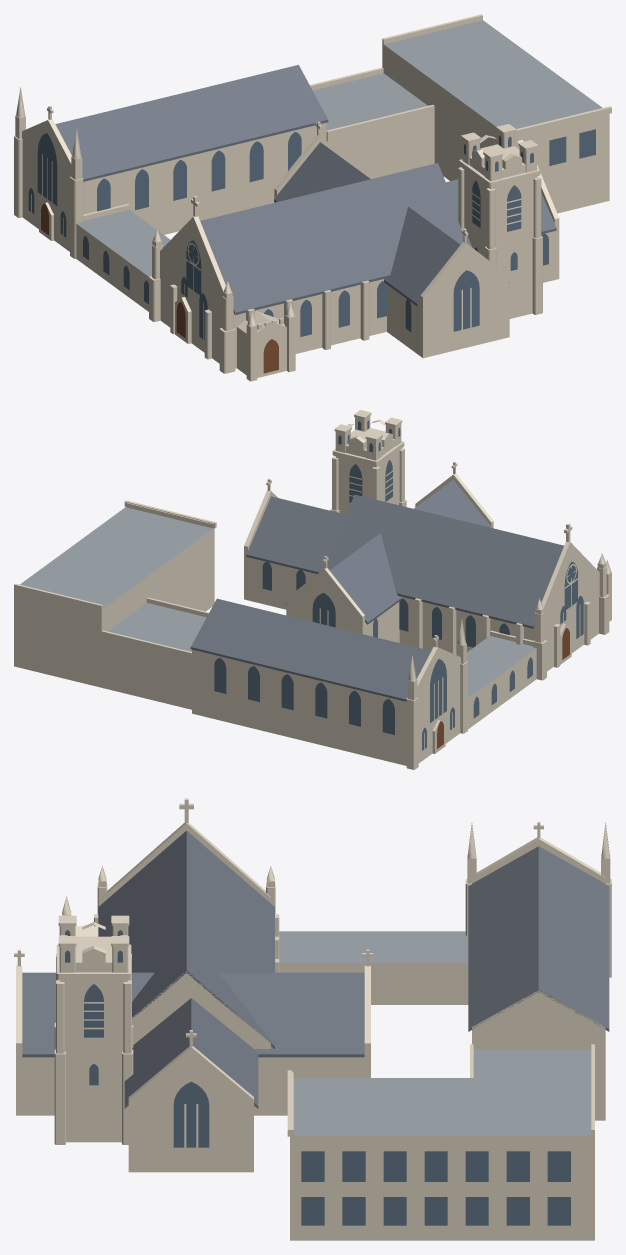
File: jax-st-johns-cathedral.glb
The picture shows the model from 3 angles, top to bottom: view 1: azimuth 30°, elevation 25°; view 2: azimuth 150°, elevation 25°; view 3: azimuth 270°, elevation 25°; orthographic projection. The views are drawn at different scales.
Parts seen in each view (by area): view 1: St. John's Episcopal Cathedral; view 2: St. John's Episcopal Cathedral; view 3: St. John's Episcopal Cathedral.
Part boxes in pixels (x1,y1,x2,y2): St. John's Episcopal Cathedral: (14,14,611,381); St. John's Episcopal Cathedral: (14,410,611,769); St. John's Episcopal Cathedral: (14,798,611,1240).
Bounding box in the file's own units: 61.2 × 20.9 × 56.8.
